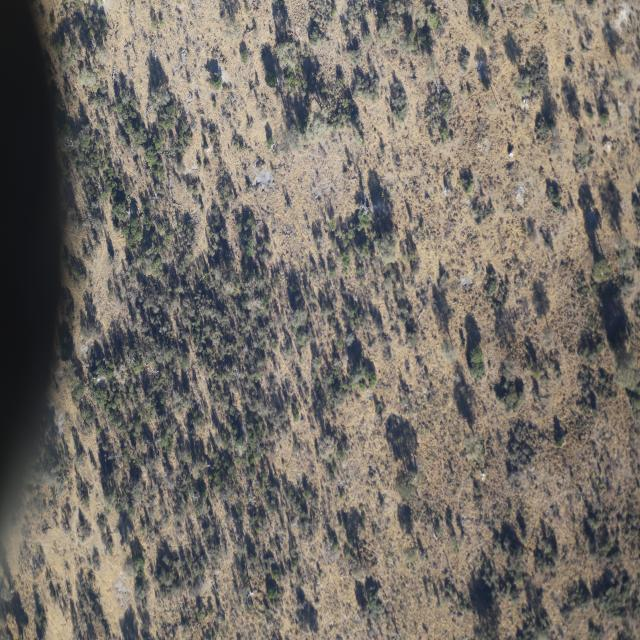elephant: (206, 504, 211, 512), (205, 463, 211, 468), (177, 310, 180, 317), (152, 495, 156, 500)
